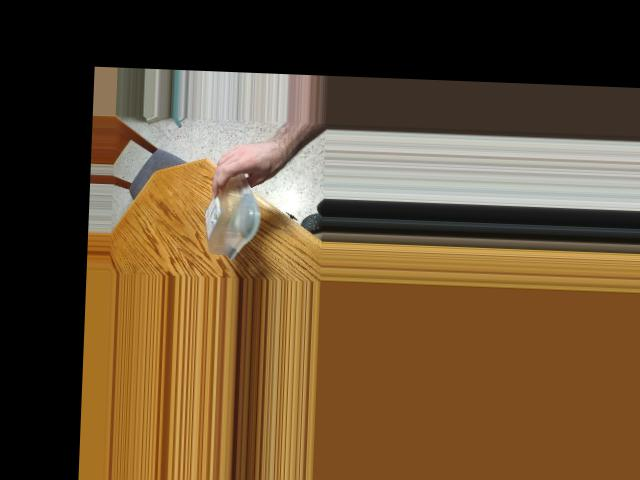cheese: (201, 155, 258, 260)
